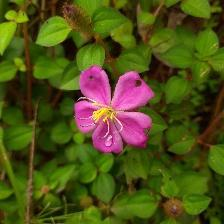malabar melastome: (72, 65, 158, 158)
